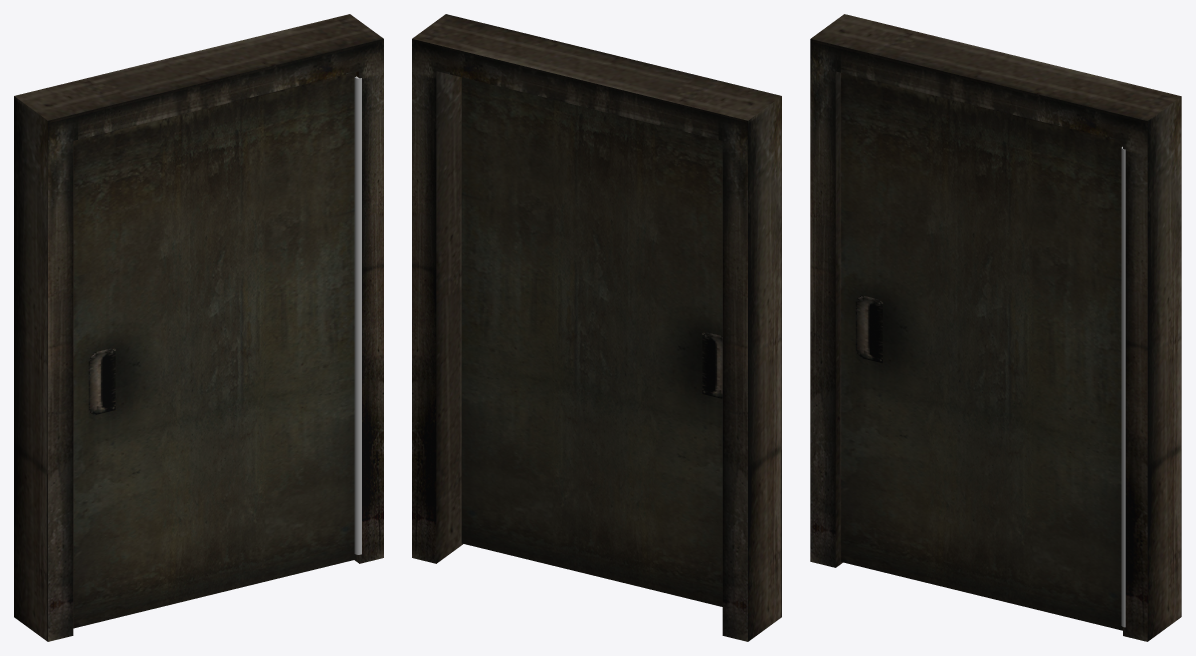
The model's file is door_infirmary.dae.
The picture shows the model from 3 angles, left to right: view 1: azimuth 30°, elevation 25°; view 2: azimuth 150°, elevation 25°; view 3: azimuth 330°, elevation 25°; orthographic projection.
Visible parts, largest first — view 1: door, frame, _joint_hinge_door_null_0_120_nocollide_joint1; view 2: door, frame; view 3: door, frame, _joint_hinge_door_null_0_120_nocollide_joint1.
Part boxes in pixels (<box>): door: <box>73,72,356,628</box>; frame: <box>14,14,383,641</box>; _joint_hinge_door_null_0_120_nocollide_joint1: <box>354,76,361,554</box>; door: <box>461,77,722,606</box>; frame: <box>412,14,781,641</box>; door: <box>840,73,1122,630</box>; frame: <box>810,14,1181,641</box>; _joint_hinge_door_null_0_120_nocollide_joint1: <box>1121,146,1125,627</box>.
Size of what is drawn, in the model's own units: 1.5 by 2.22 by 0.2634.
